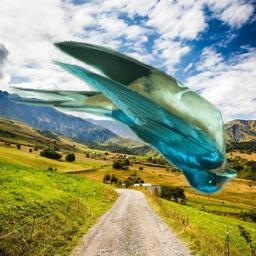Swallow: (9, 40, 238, 195)
